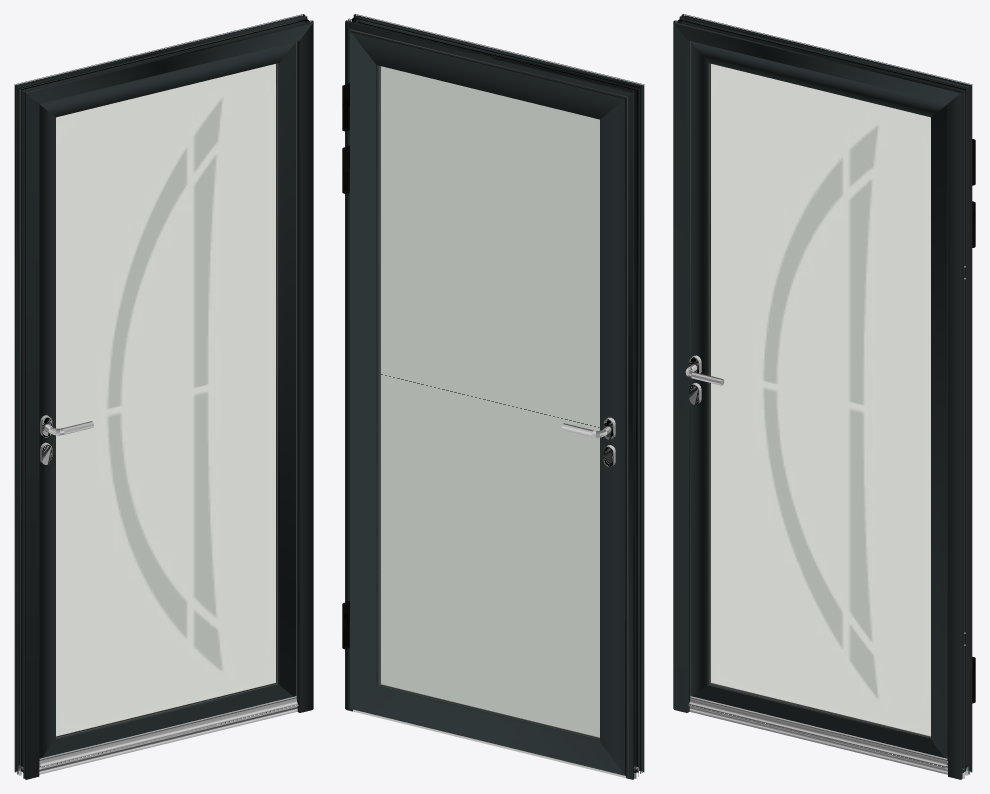
The picture shows the model from 3 angles, left to right: view 1: azimuth 30°, elevation 25°; view 2: azimuth 150°, elevation 25°; view 3: azimuth 330°, elevation 25°; orthographic projection.
Visible parts, largest first — view 1: ouvrant, 30_architect; view 2: ouvrant, 30_architect; view 3: ouvrant, 30_architect.
Part boxes in pixels (x1,y1,x2,y2): ouvrant: [20, 21, 298, 768]; 30_architect: [14, 14, 313, 779]; ouvrant: [342, 29, 628, 776]; 30_architect: [342, 14, 644, 779]; ouvrant: [688, 21, 975, 768]; 30_architect: [673, 14, 975, 779].
Size of the model in its own units: 96 by 218 by 20.21.
Materials: 1 (1 with a texture image).
